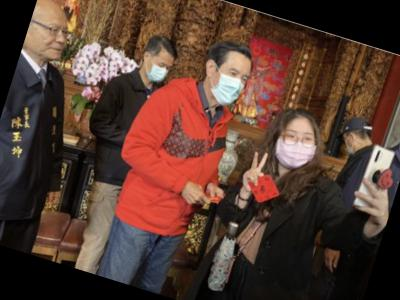with_mask: (269, 121, 323, 176), (204, 61, 253, 111), (140, 53, 175, 87), (340, 134, 361, 157)
without_mask: (27, 14, 72, 64)
